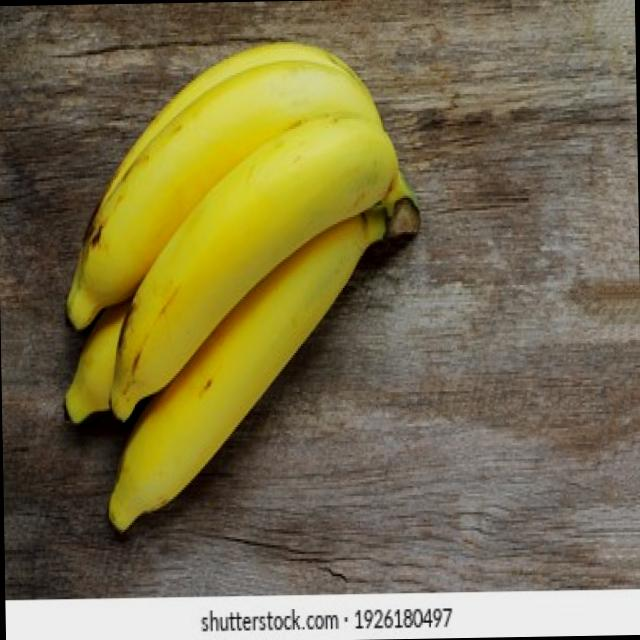Platano: (54, 36, 428, 542)
